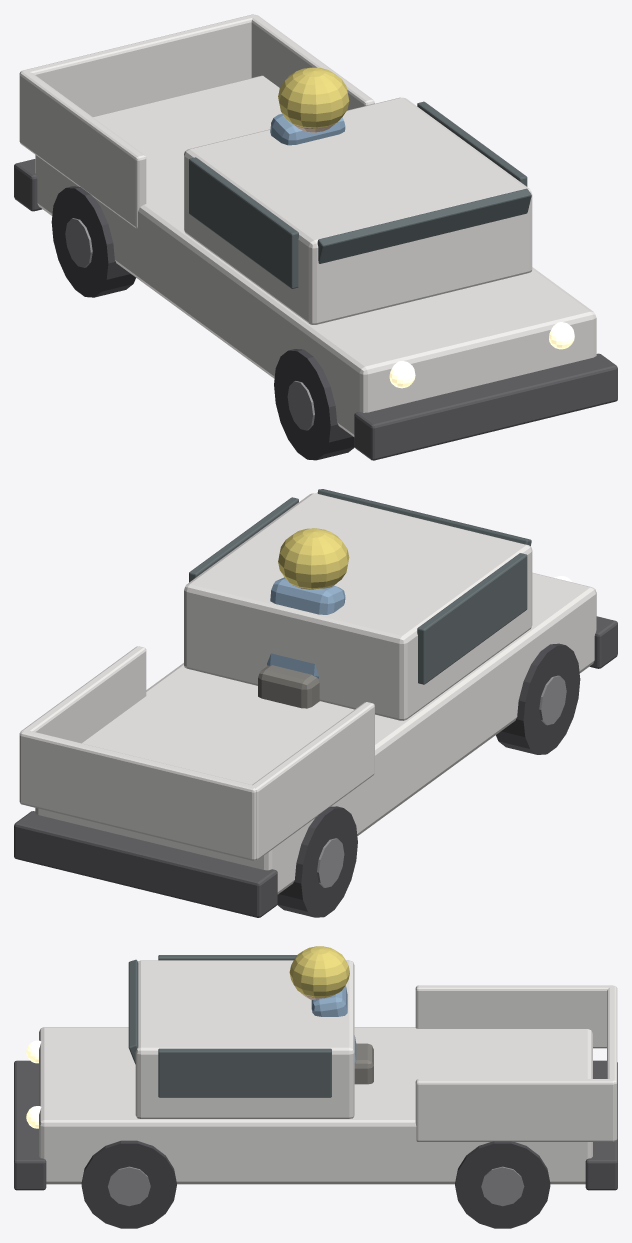
File: vehicle.glb
The picture shows the model from 3 angles, top to bottom: view 1: azimuth 30°, elevation 25°; view 2: azimuth 150°, elevation 25°; view 3: azimuth 270°, elevation 25°; orthographic projection. The views are drawn at different scales.
Parts seen in each view (by area): view 1: CarBody, WheelRL, WheelFL, Helmet, Rider, HeadLamp.001; view 2: CarBody, WheelFL, WheelRL, Rider, Helmet; view 3: CarBody, WheelFR, WheelRR, Helmet, Rider, HeadLamp.001.
Part boxes in pixels (x1,y1,x2,y2): CarBody: (14,14,617,460); WheelRL: (51,186,135,297); WheelFL: (274,349,354,460); Helmet: (278,67,349,128); Rider: (270,114,345,145); HeadLamp.001: (389,322,574,388); CarBody: (14,489,617,917); WheelFL: (496,643,580,754); WheelRL: (277,806,357,917); Rider: (258,577,345,708); Helmet: (278,528,349,589); CarBody: (14,955,617,1190); WheelFR: (81,1140,176,1228); WheelRR: (455,1141,550,1228); Helmet: (289,946,349,997); Rider: (301,985,373,1084); HeadLamp.001: (26,1040,41,1128).
Bounding box in the file's own units: 1.91 × 1.95 × 4.69.
